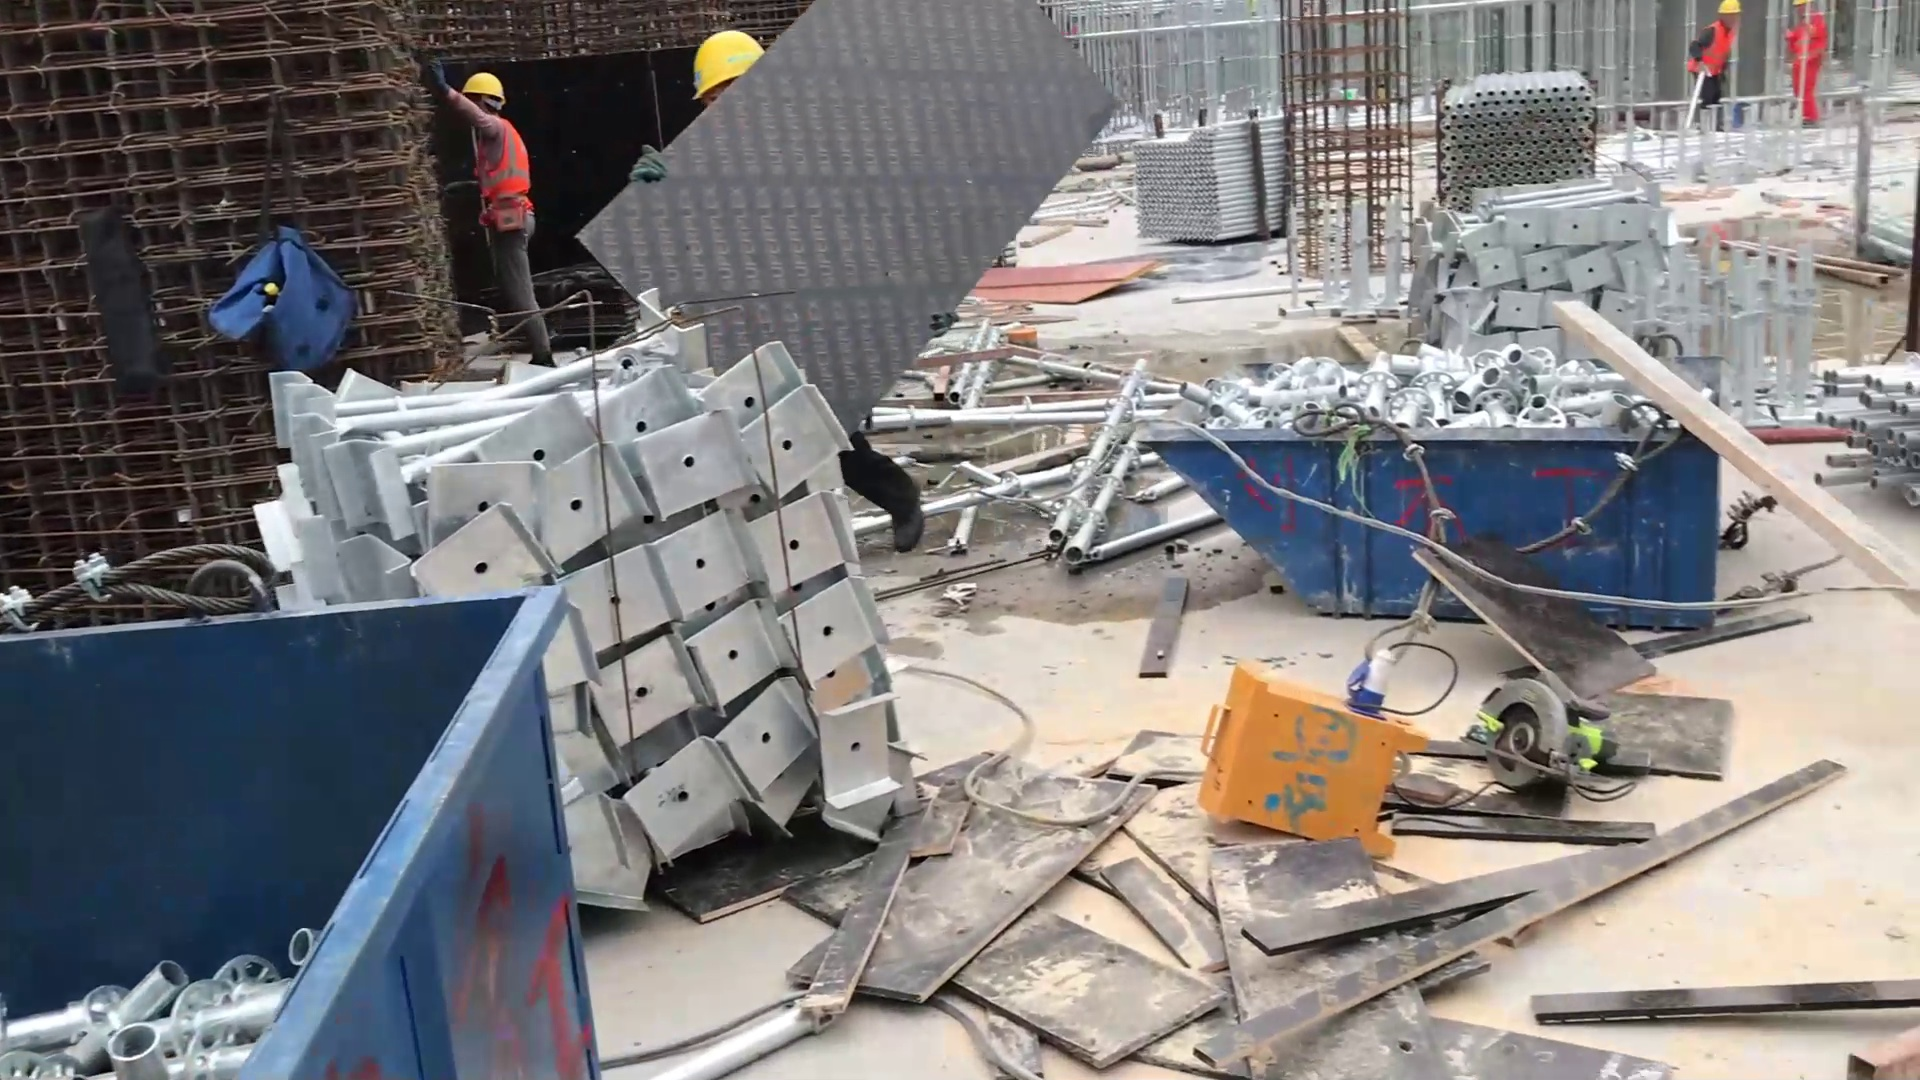board: (900, 800, 1576, 1080)
cutter: (1452, 674, 1652, 818)
ebox: (1197, 657, 1412, 864)
helmet: (693, 28, 766, 99), (462, 72, 506, 105), (1715, 1, 1744, 15)
hopper: (1, 581, 596, 1074), (1115, 344, 1754, 637)
person: (423, 42, 566, 368), (1686, 1, 1744, 116), (1784, 4, 1836, 130)
scaffold: (534, 323, 928, 930), (1419, 165, 1685, 349), (1443, 64, 1607, 194), (1130, 120, 1286, 246)
vest: (466, 120, 548, 239), (1695, 23, 1736, 85), (1792, 18, 1833, 79)
